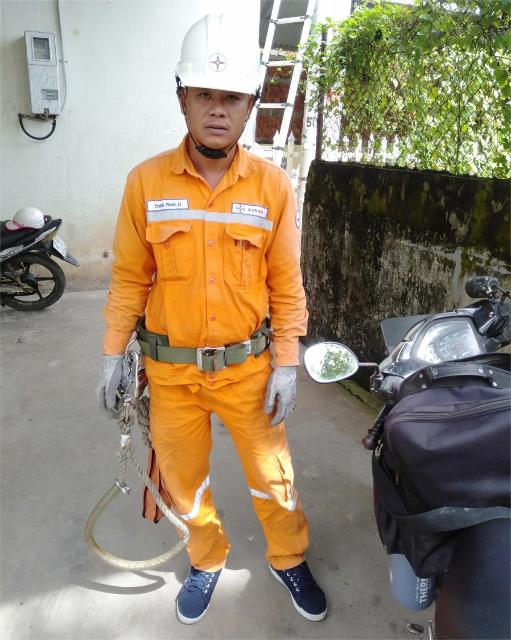gloves: (87, 347, 137, 426), (253, 347, 302, 427)
harness: (120, 317, 289, 375)
helmet: (162, 0, 274, 103)
shoes: (263, 533, 351, 619), (176, 536, 224, 629)
